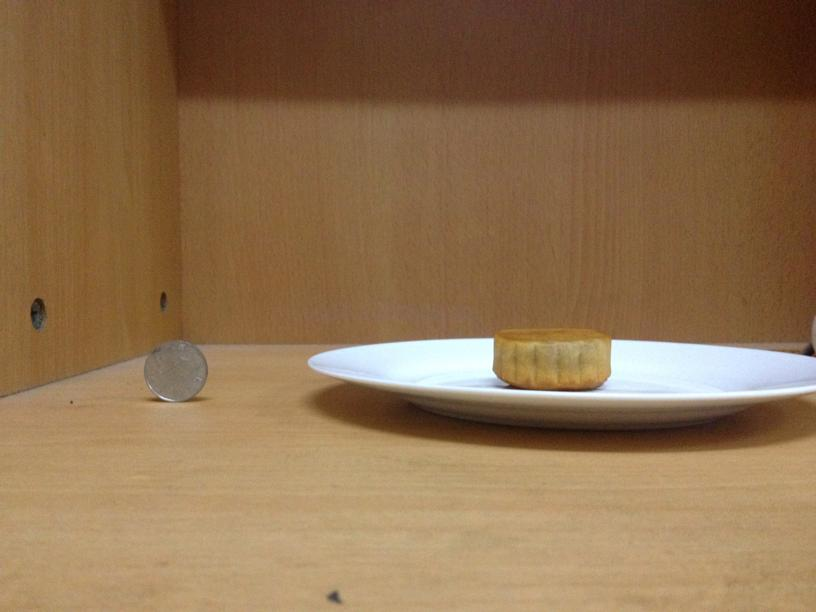coin: (144, 341, 206, 402)
mooncake: (489, 325, 612, 389)
